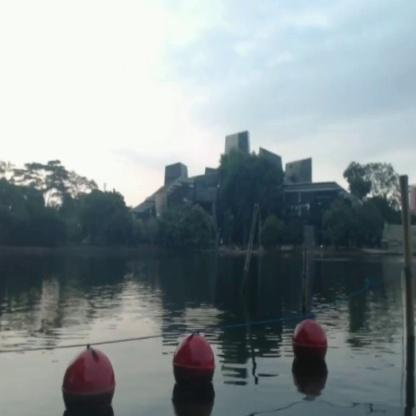red_buoy: (61, 345, 118, 414), (173, 337, 216, 396), (292, 320, 327, 366)
